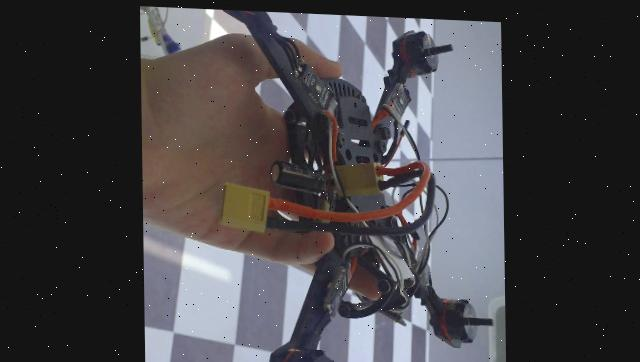drone: (185, 6, 505, 362)
